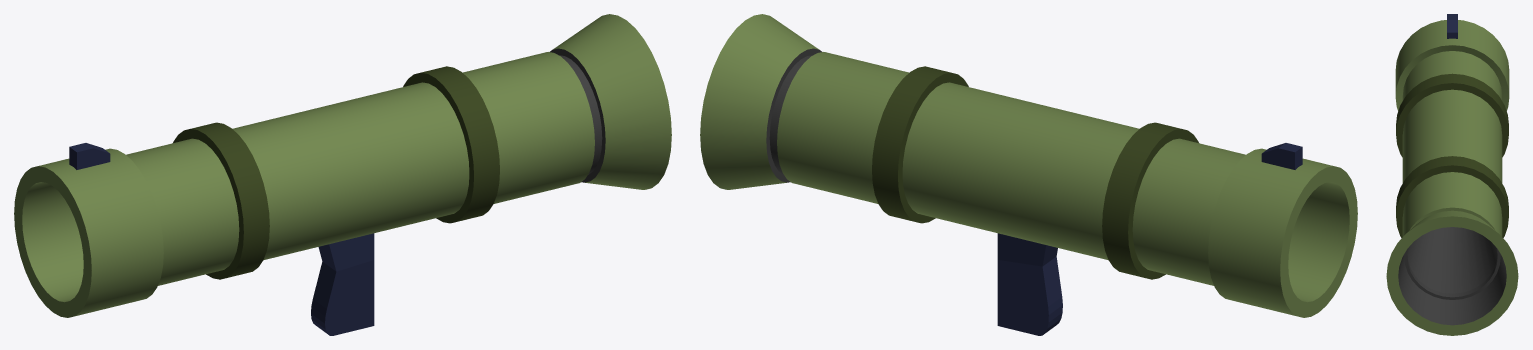
File: bazukar.fbx
3 renders of one model, left to right at view 1: azimuth 30°, elevation 25°; view 2: azimuth 150°, elevation 25°; view 3: azimuth 270°, elevation 25°, orthographic. The views are drawn at different scales.
Parts seen in each view (by area): view 1: Cylinder, Cylinder.001, Cylinder.002, Cube.008, Cube.007; view 2: Cylinder, Cube.008, Cylinder.001, Cylinder.002, Cube.007; view 3: Cylinder, Cylinder.002, Cylinder.001, Cube.007.
Part boxes in pixels (box(x1,y1,x2,y2)): Cylinder: box(14, 14, 671, 317); Cylinder.001: box(173, 122, 269, 279); Cylinder.002: box(403, 66, 499, 223); Cube.008: box(311, 233, 374, 335); Cube.007: box(69, 143, 110, 169); Cylinder: box(700, 14, 1357, 317); Cube.008: box(997, 233, 1062, 335); Cylinder.001: box(1102, 122, 1198, 279); Cylinder.002: box(872, 66, 968, 223); Cube.007: box(1261, 143, 1302, 169); Cylinder: box(1386, 20, 1518, 335); Cylinder.002: box(1396, 156, 1508, 238); Cylinder.001: box(1396, 73, 1508, 157); Cube.007: box(1447, 14, 1457, 38).
Bounding box in the file's own units: 844 × 341 × 229.
